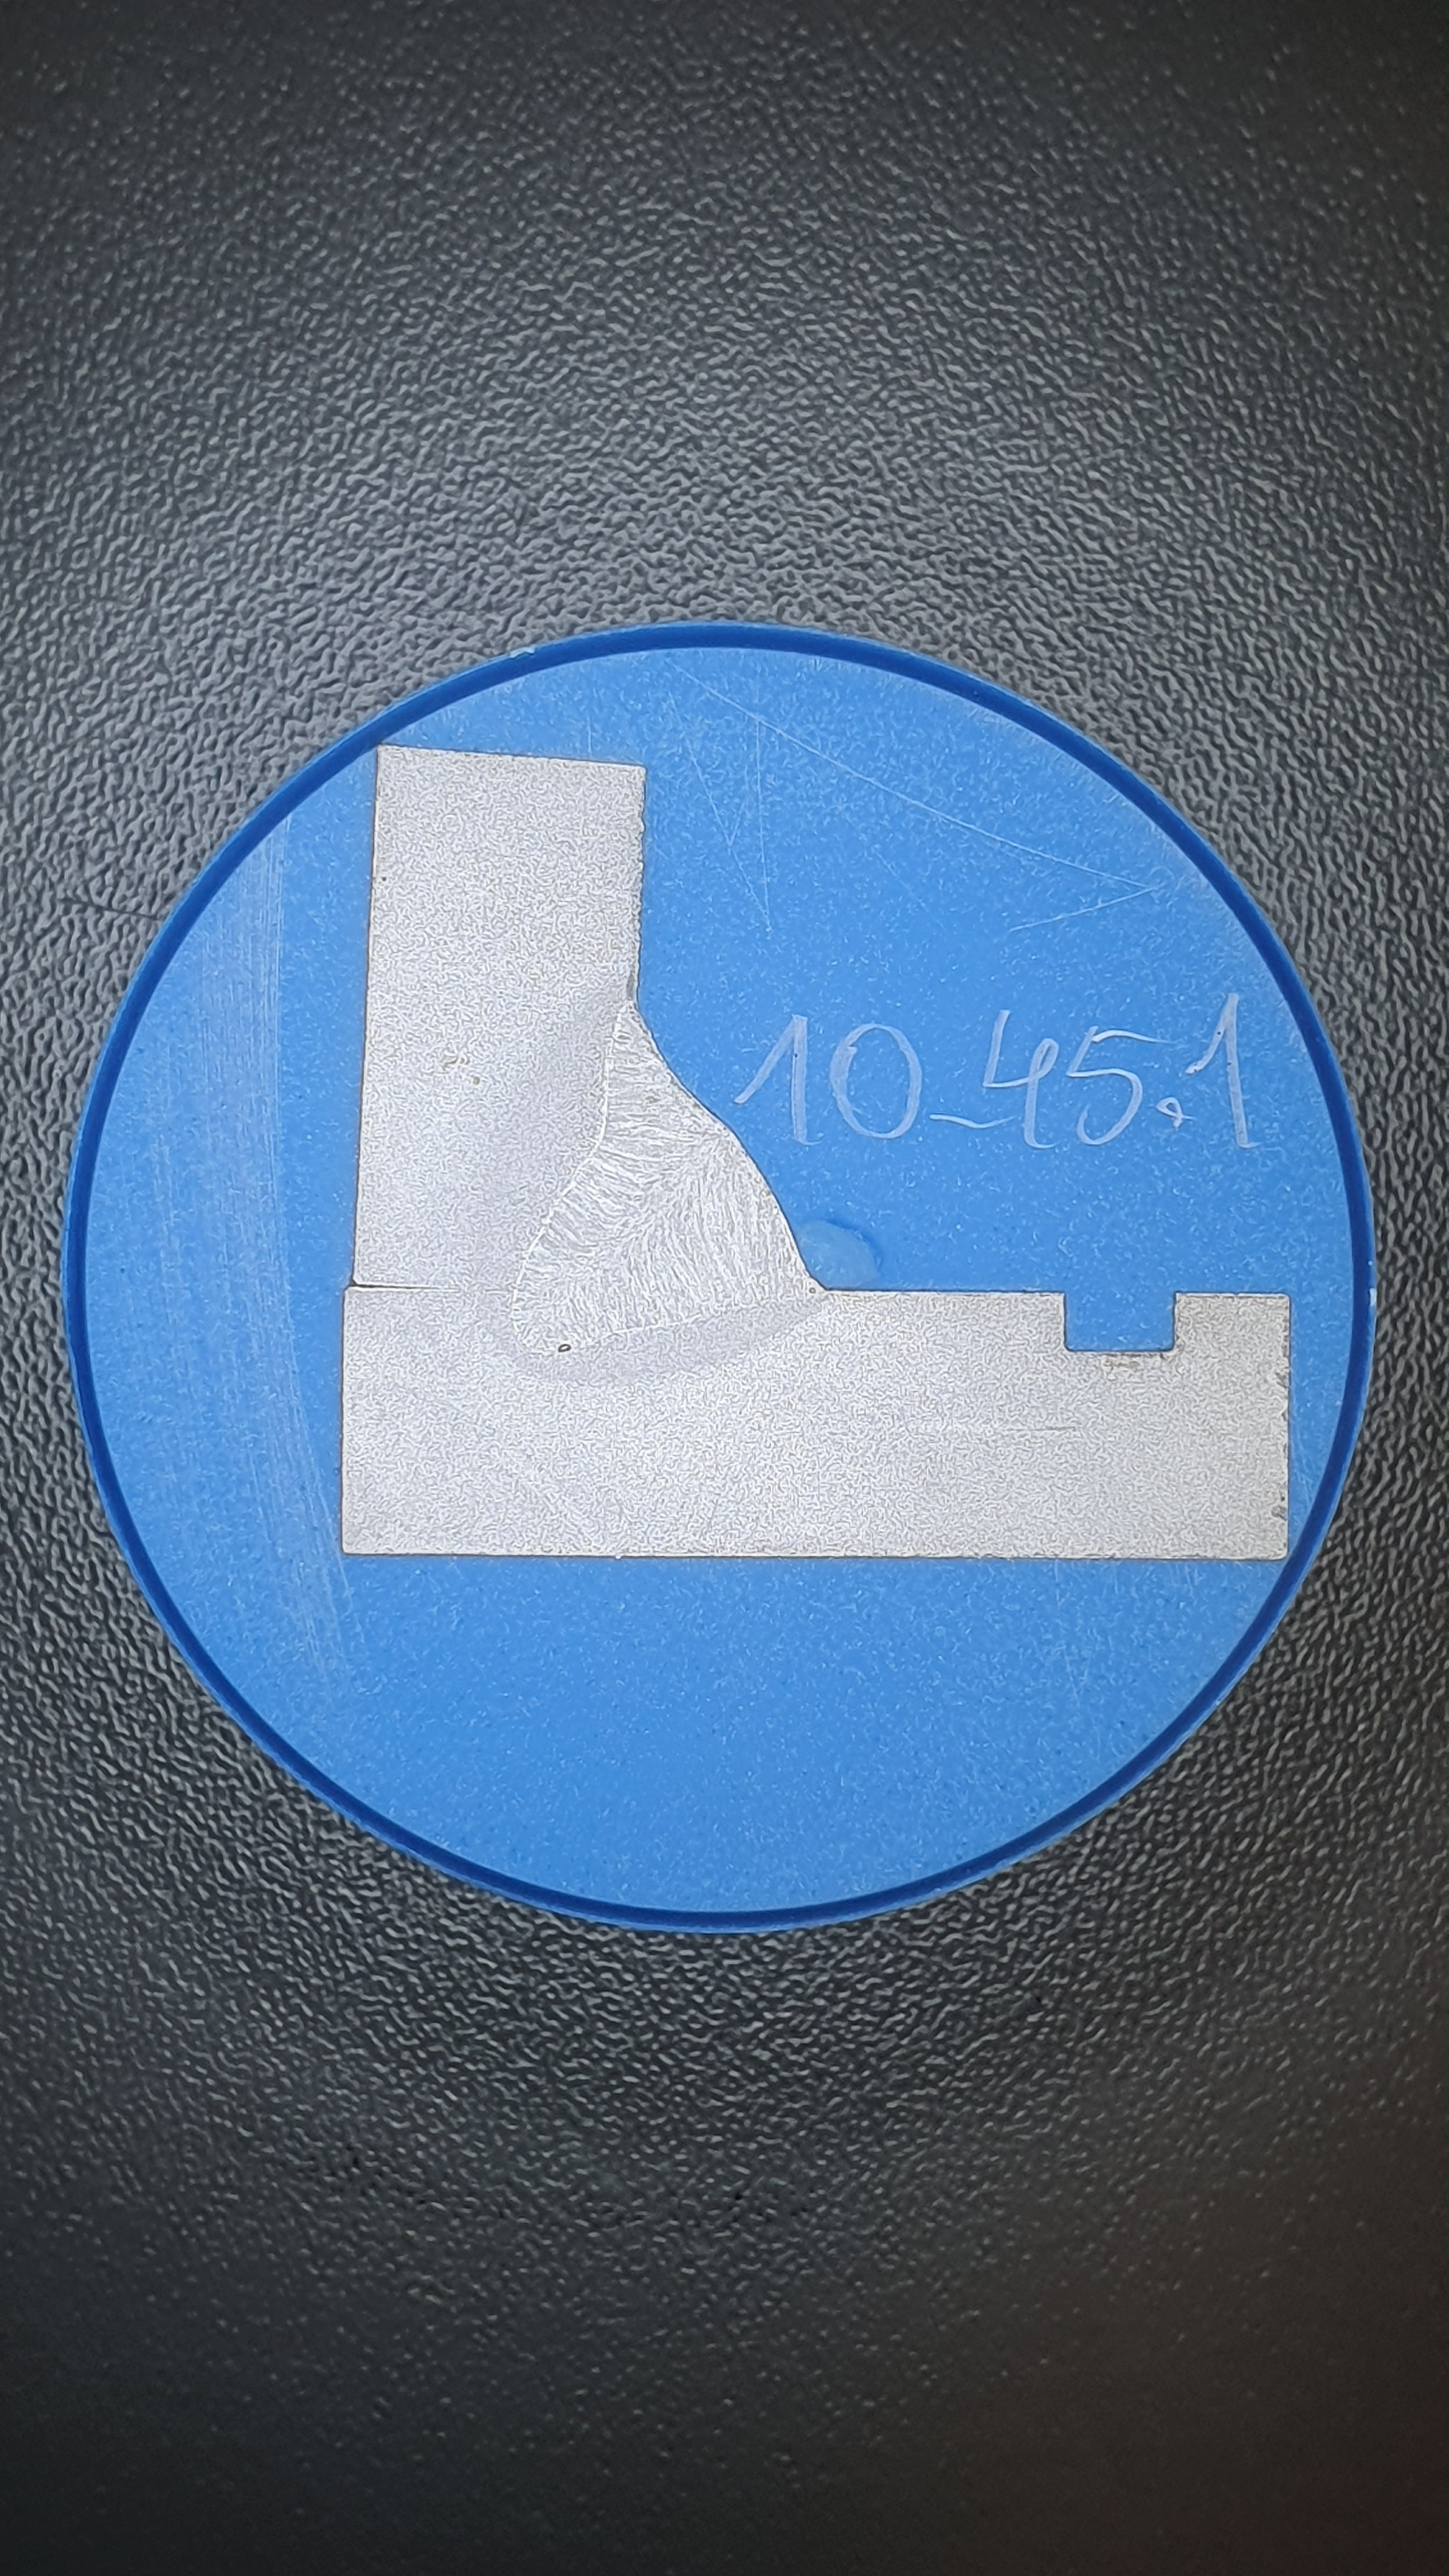Fusion: (513, 1000, 823, 1355)
Hintergrund: (87, 646, 1355, 1913)
Metall: (341, 743, 1290, 1560)
Nebenbereich: (467, 962, 830, 1391)
